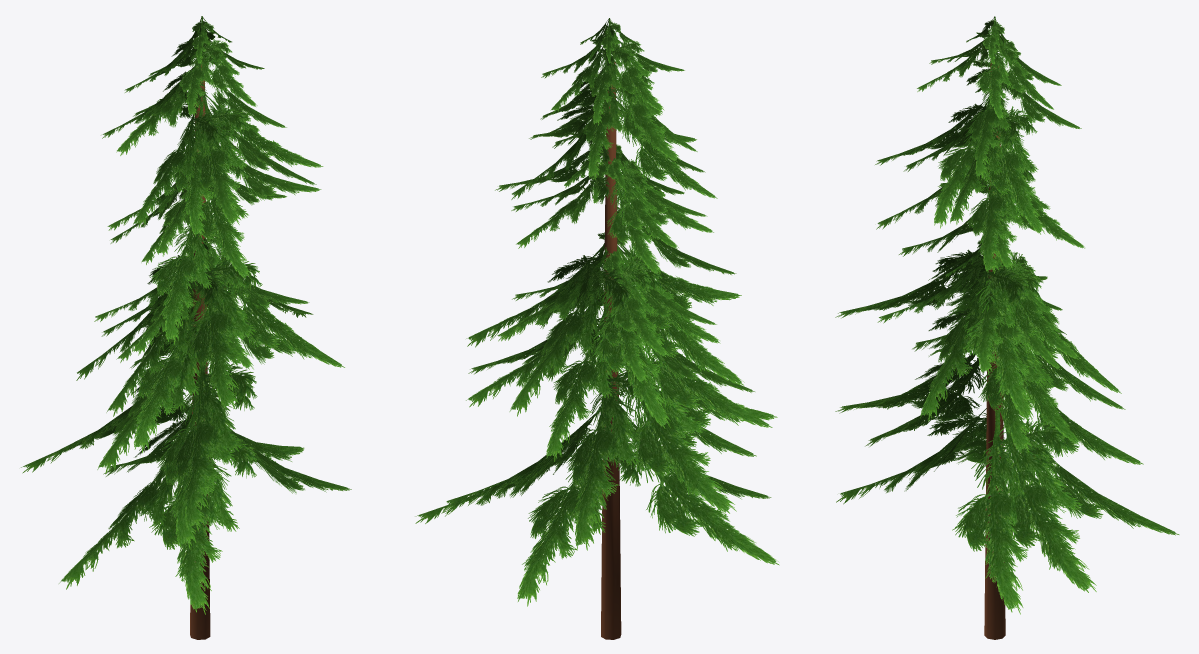
Rendered from Pine_Stylized_03_Tree.glb.
3 views of the same model, side by side, from view 1: azimuth 30°, elevation 25°; view 2: azimuth 150°, elevation 25°; view 3: azimuth 270°, elevation 25° (orthographic).
Parts seen in each view (by area): view 1: Cylinder.002_1, Cylinder.002_0; view 2: Cylinder.002_1, Cylinder.002_0; view 3: Cylinder.002_1, Cylinder.002_0.
Boxes of the visible parts, x1,y1,x2,y2 form: Cylinder.002_1: (21,16,351,614); Cylinder.002_0: (190,62,210,639); Cylinder.002_1: (415,18,779,606); Cylinder.002_0: (601,62,621,639); Cylinder.002_1: (835,16,1179,614); Cylinder.002_0: (984,59,1005,639).
Bounding box in the file's own units: 5.82 × 10.56 × 5.64.
2 materials, 2 textured.
